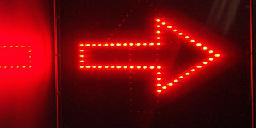LED: (72, 18, 223, 99)
